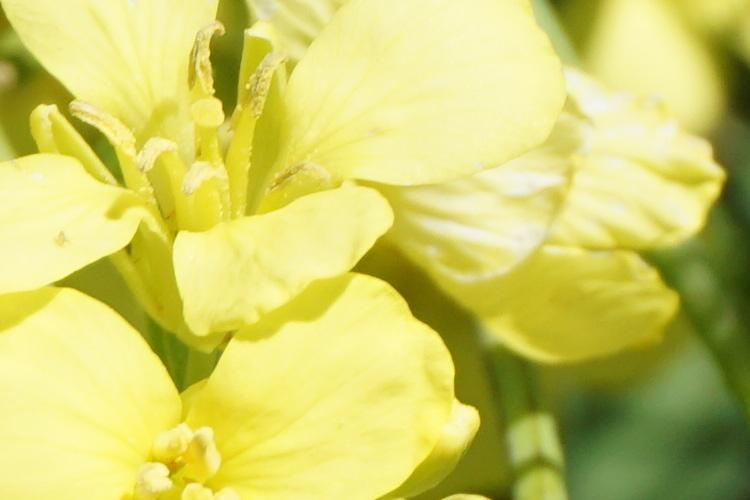yellow: (17, 4, 530, 311), (24, 289, 463, 500), (422, 71, 695, 341)
